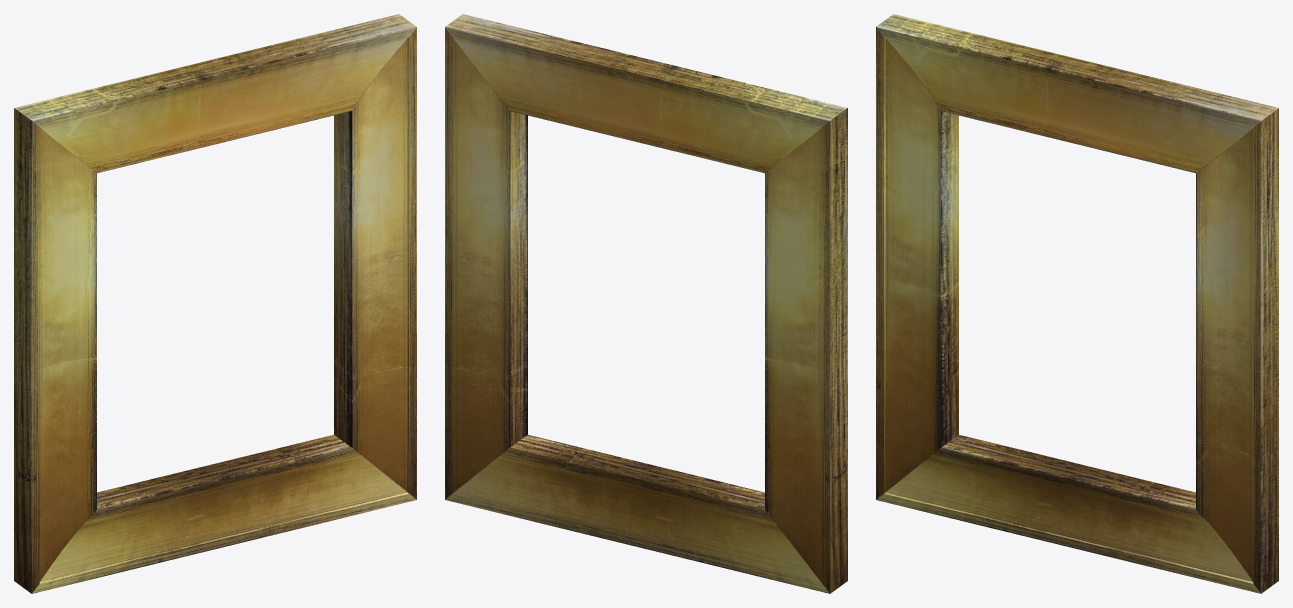
File: ifac-gold-leaf.glb
The picture shows the model from 3 angles, left to right: view 1: azimuth 30°, elevation 25°; view 2: azimuth 150°, elevation 25°; view 3: azimuth 330°, elevation 25°; orthographic projection.
Parts seen in each view (by area): view 1: frame2; view 2: frame2; view 3: frame2.
Boxes of the visible parts, x1=… form: frame2: x1=14, y1=14, x2=416, y2=593; frame2: x1=445, y1=14, x2=847, y2=593; frame2: x1=876, y1=14, x2=1278, y2=593.
Bounding box in the file's own units: 0.4242 × 0.4978 × 0.0338.
1 material, 1 textured.
